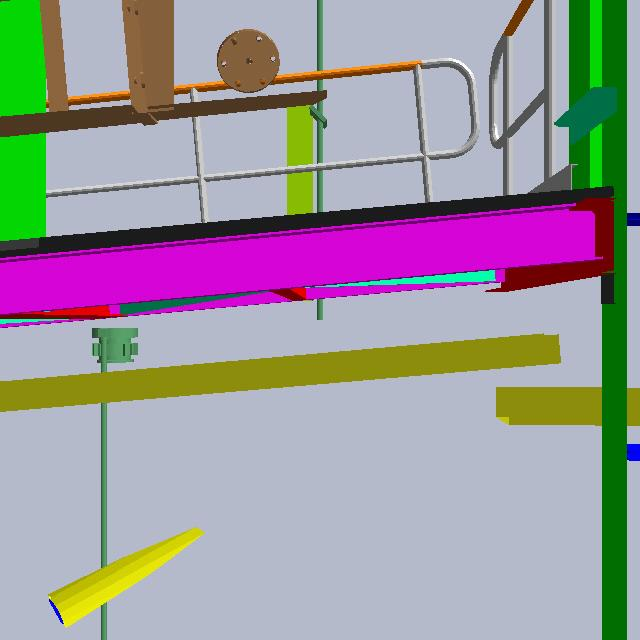Poste: (313, 1, 328, 323)
Soporte: (282, 88, 318, 292)
